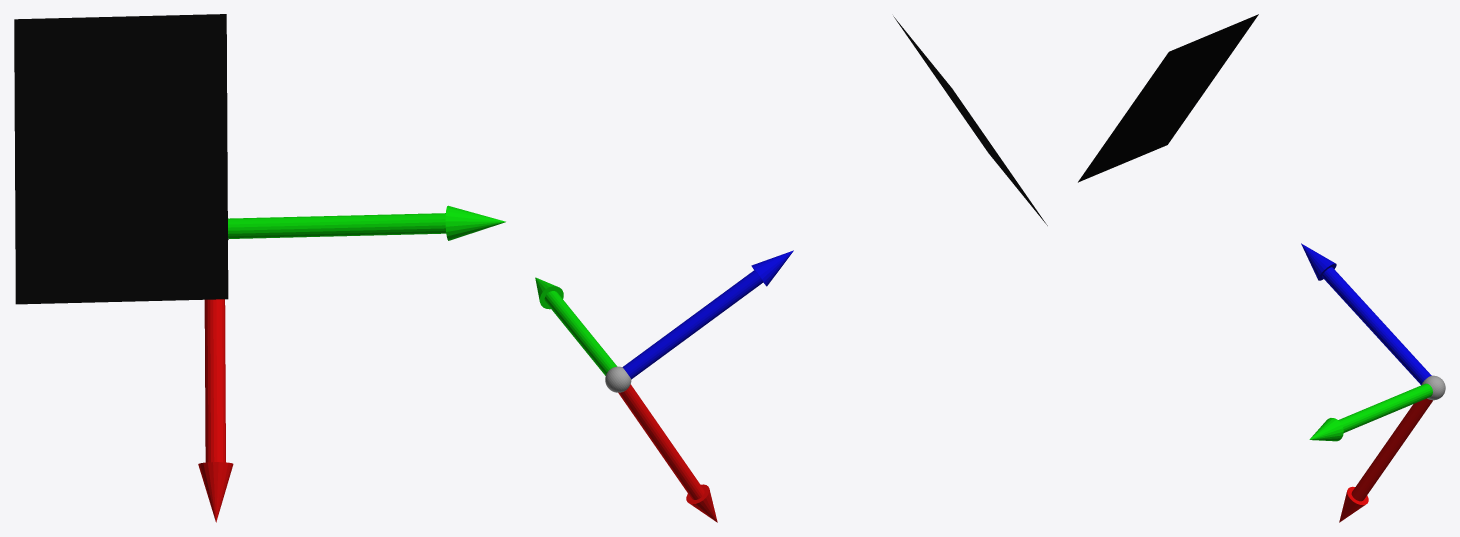
The picture shows the model from 3 angles, left to right: view 1: azimuth 30°, elevation 25°; view 2: azimuth 150°, elevation 25°; view 3: azimuth 270°, elevation 25°; orthographic projection. The views are drawn at different scales.
Size of the model in its own units: 0.2893 by 0.2919 by 0.2249.
